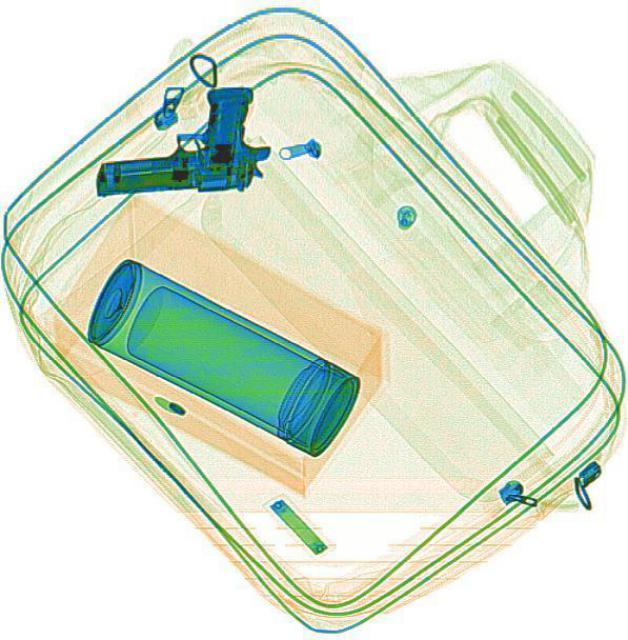Gun: (84, 82, 273, 202)
